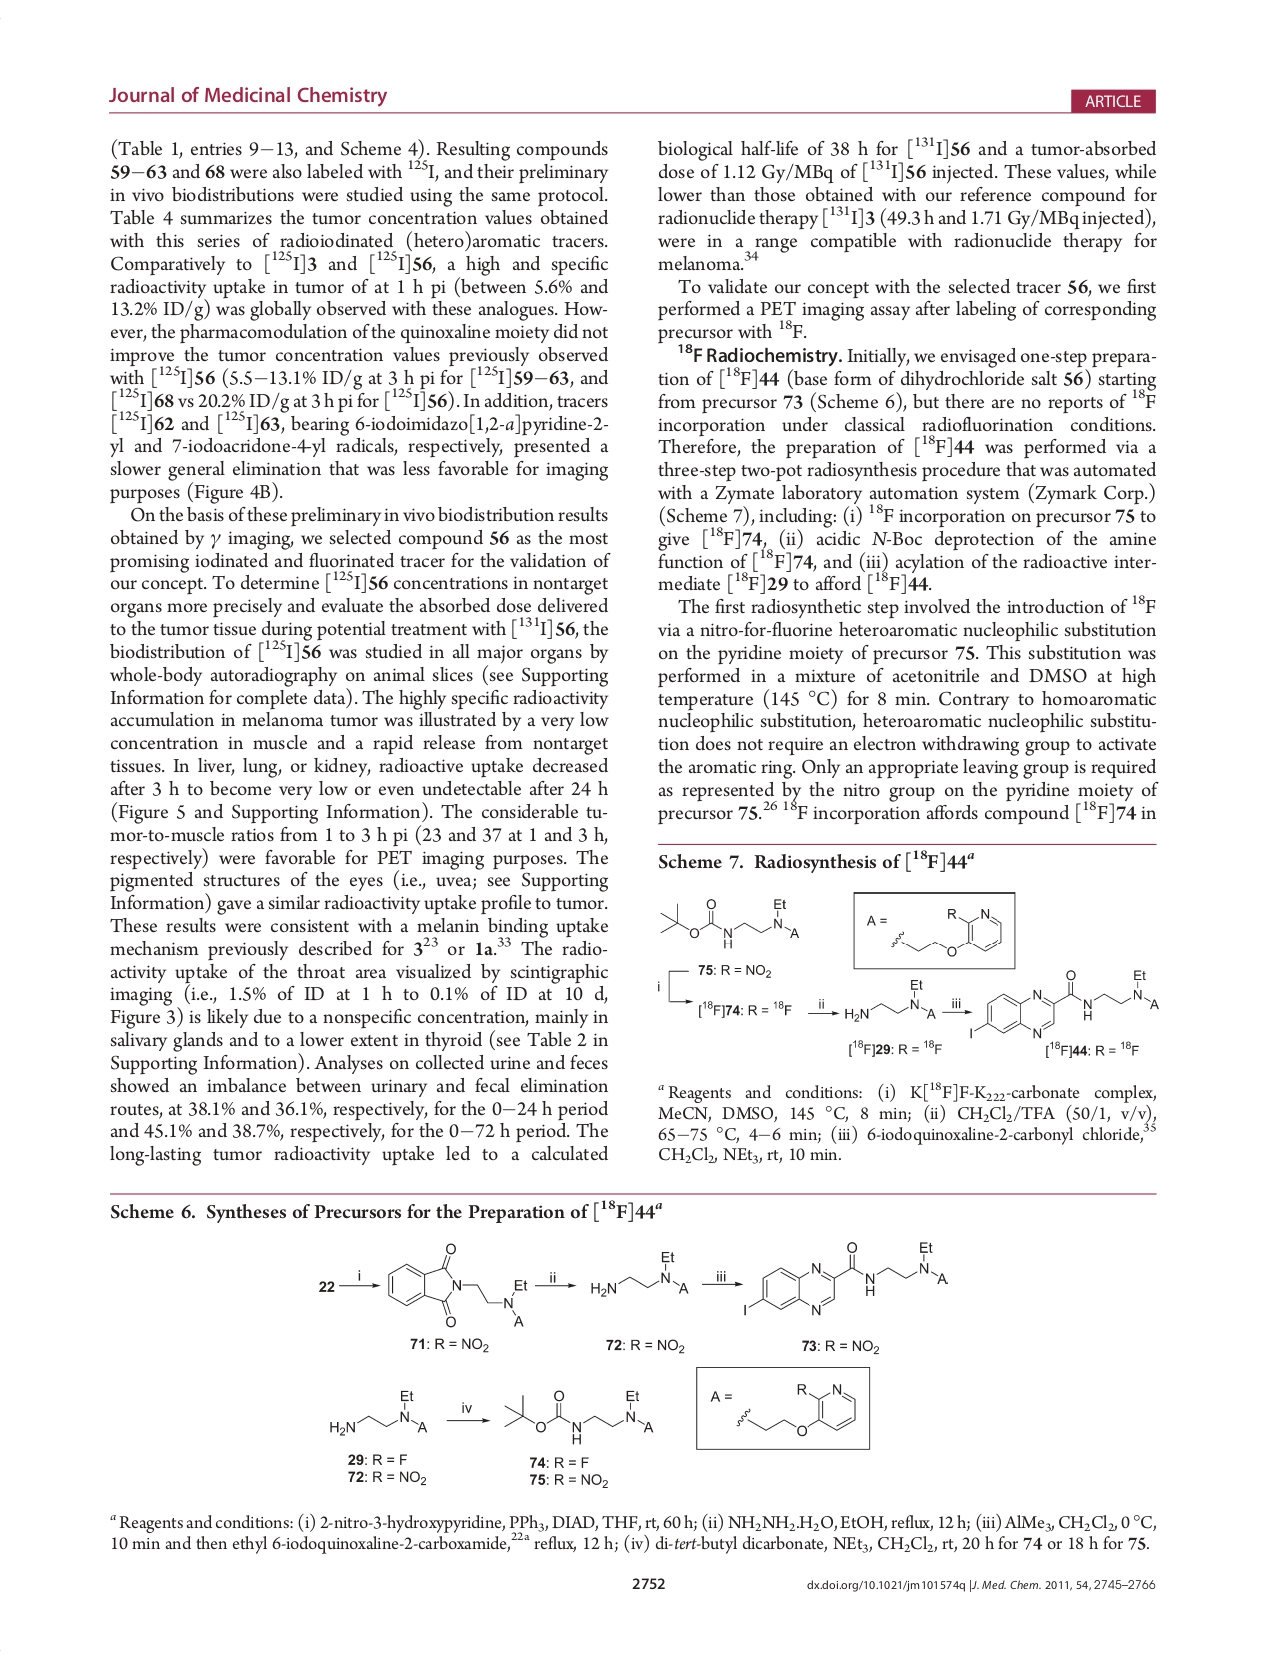exist_molecular: (739, 1238, 949, 1321), (965, 968, 1164, 1040), (382, 1239, 531, 1333), (497, 1384, 656, 1450), (657, 890, 802, 952), (735, 1380, 860, 1439), (588, 1243, 692, 1305), (890, 904, 1005, 959), (324, 1382, 430, 1442), (842, 975, 938, 1025)
